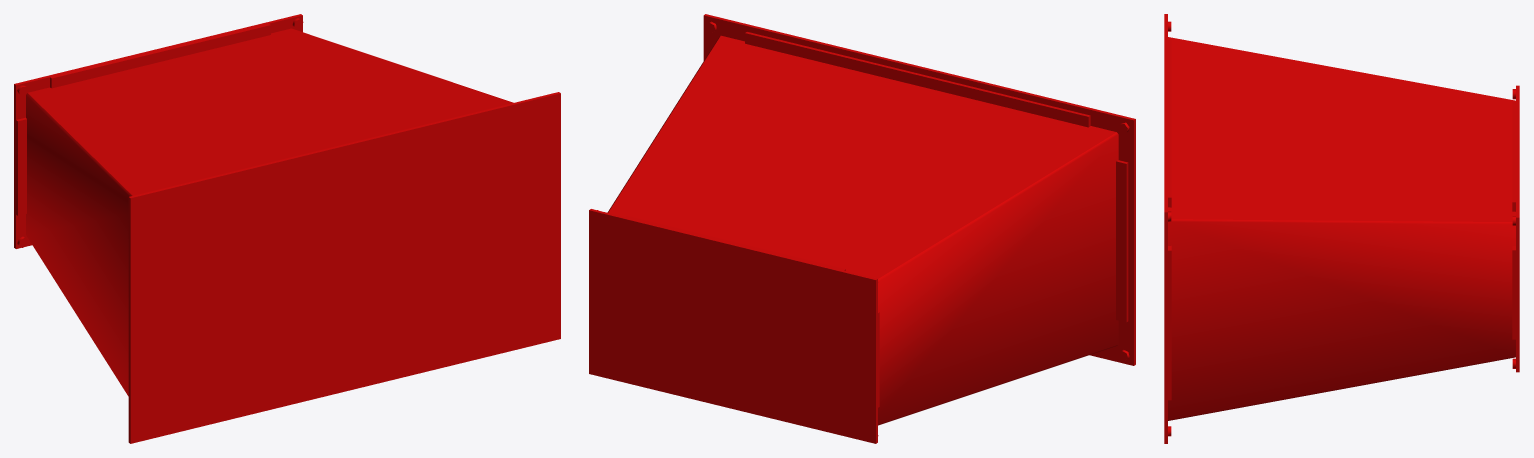
The picture shows the model from 3 angles, left to right: view 1: azimuth 30°, elevation 25°; view 2: azimuth 150°, elevation 25°; view 3: azimuth 270°, elevation 25°; orthographic projection. The views are drawn at different scales.
Parts seen in each view (by area): view 1: Mesh; view 2: Mesh; view 3: Mesh.
Boxes of the visible parts, bbox=[...] form: Mesh: bbox=[14, 14, 560, 443]; Mesh: bbox=[589, 14, 1135, 443]; Mesh: bbox=[1164, 14, 1519, 443].
Bounding box in the file's own units: 0.66 × 0.36 × 0.5.
